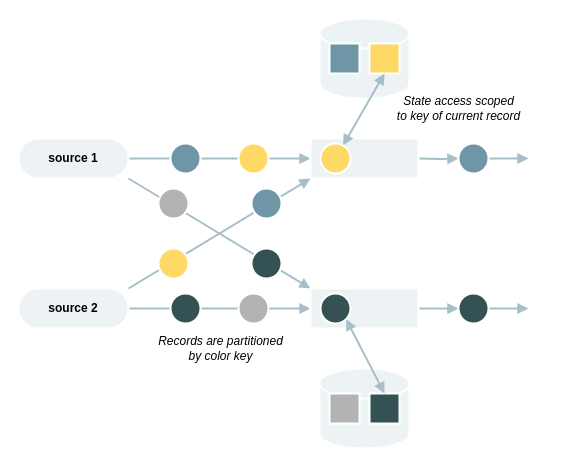
Some shapes in this 575 by 466 pixel diagram are drawn without their labels. Each missing label, with the box of its shape:
Subtask 1: (309, 137, 419, 179)
Subtask 2: (309, 287, 419, 329)
